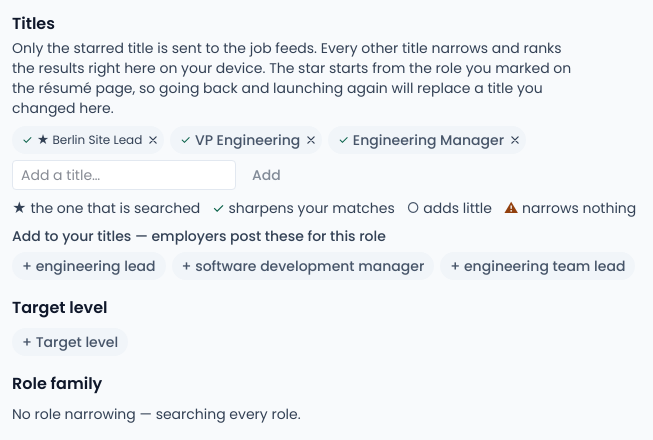
JobQueryEditor — primary title promotion › moves a clicked chip to the front and follows with the searched-for line
Click the button "VP Engineering" at (248, 140), box [195,130,300,150]
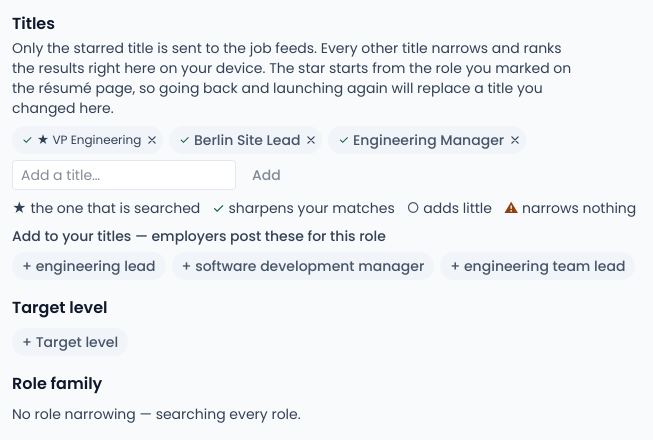
Expected: the element showing "★ VP Engineering" is shown, [37,132,141,148]
